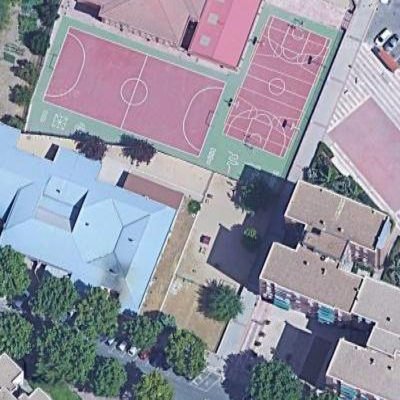tree: (39, 326, 95, 388), (35, 266, 84, 325), (78, 283, 125, 341), (244, 354, 301, 400), (1, 241, 40, 307), (229, 172, 280, 220), (1, 304, 39, 367), (86, 352, 133, 400), (173, 325, 212, 380), (202, 278, 245, 325), (133, 303, 170, 356), (122, 132, 160, 169), (76, 132, 114, 167), (130, 370, 173, 400), (21, 20, 55, 57), (238, 225, 270, 255), (6, 79, 35, 111), (11, 56, 38, 85)
